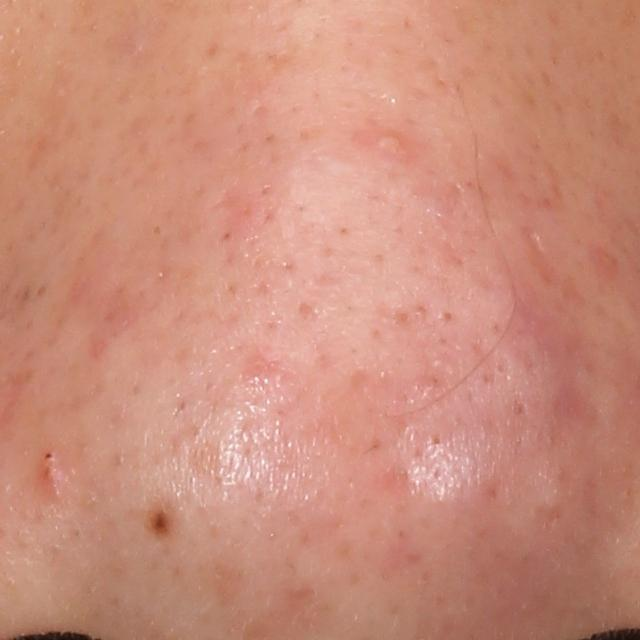nevus: (148, 506, 174, 536)
pustule: (370, 130, 409, 160)
